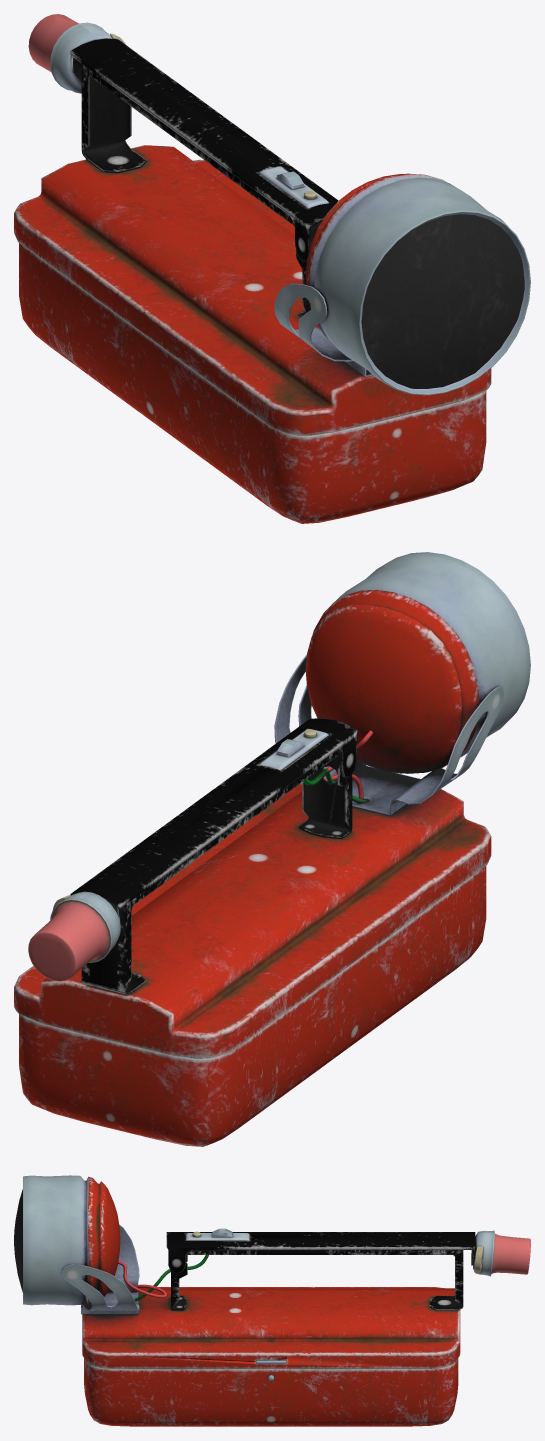
File: vintage_flashlight.glb
3 views of the same model, one above another, from view 1: azimuth 30°, elevation 25°; view 2: azimuth 150°, elevation 25°; view 3: azimuth 270°, elevation 25° (orthographic). The views are drawn at different scales.
Visible parts, largest first — view 1: vintage_flashlight; view 2: vintage_flashlight; view 3: vintage_flashlight.
Boxes of the visible parts, x1=… form: vintage_flashlight: x1=14, y1=14, x2=530, y2=523; vintage_flashlight: x1=14, y1=552, x2=530, y2=1146; vintage_flashlight: x1=14, y1=1175, x2=530, y2=1426.
Size of the model in its own units: 0.0959 by 0.1443 by 0.3055.
2 materials, 2 textured.
